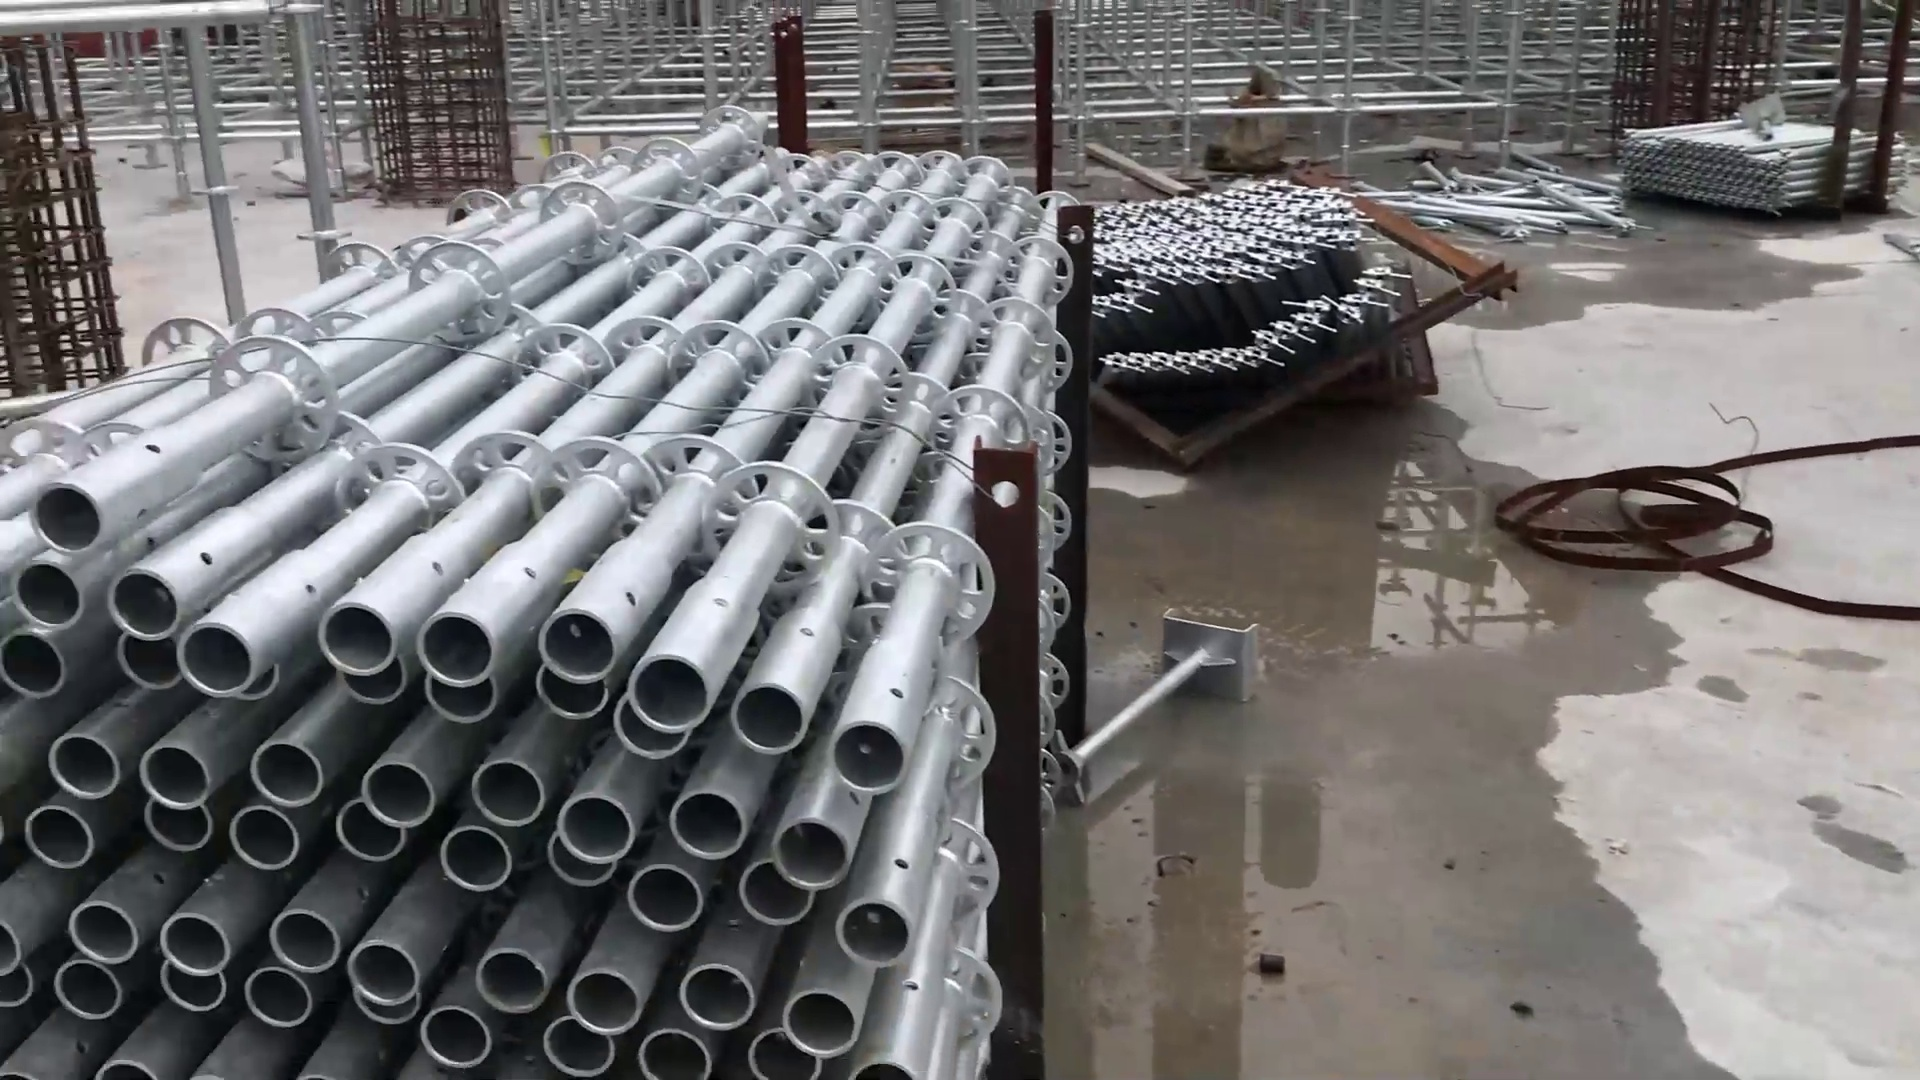scaffold: (1, 127, 1077, 1080), (1091, 174, 1423, 404), (1606, 111, 1913, 222)
